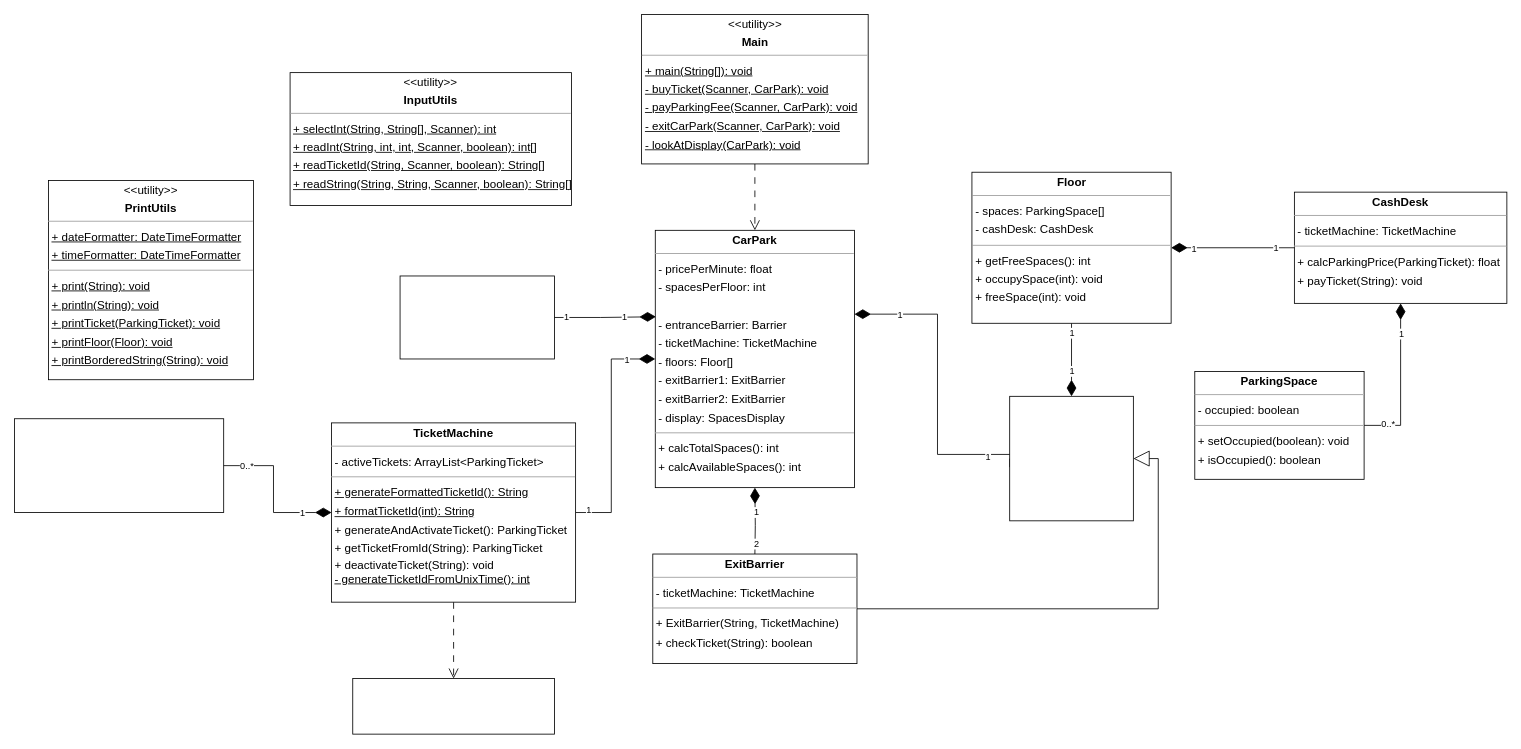
This 1521x749 diagram has some shape labels left out. The centre of each missing label's shape, as x and y in pixels:
"Barrier - name: String + open(): void + close(): void + letCarPass(): void" belongs at (1071,458).
"ParkingTicket - id: String - purchaseTime: LocalDateTime - payed: boolean" belongs at (119,465).
"SpacesDisplay - freeSpaces: int - updateDisplay(): void" belongs at (476,317).
"TicketNotFoundException + TicketNotFoundException(String):" belongs at (453,706).
